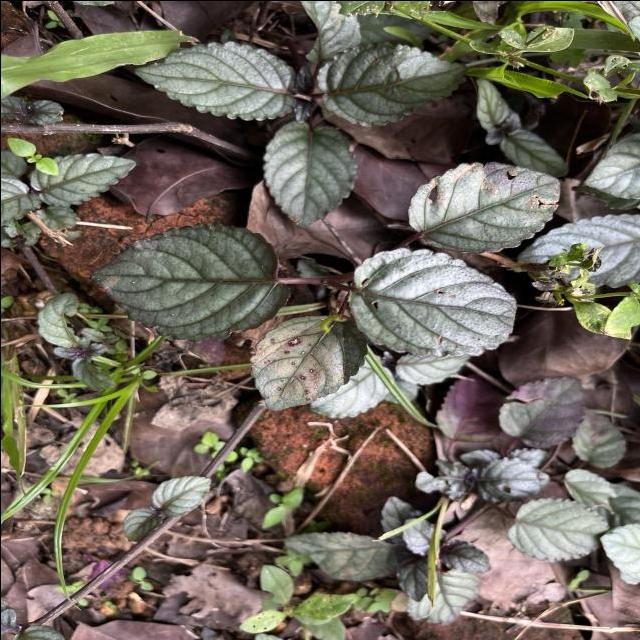Hemigraphis colorata: (86, 218, 293, 346), (341, 245, 518, 360), (404, 160, 562, 256), (312, 38, 471, 128), (130, 38, 299, 122), (246, 310, 371, 413), (258, 117, 360, 230), (27, 151, 137, 208)
